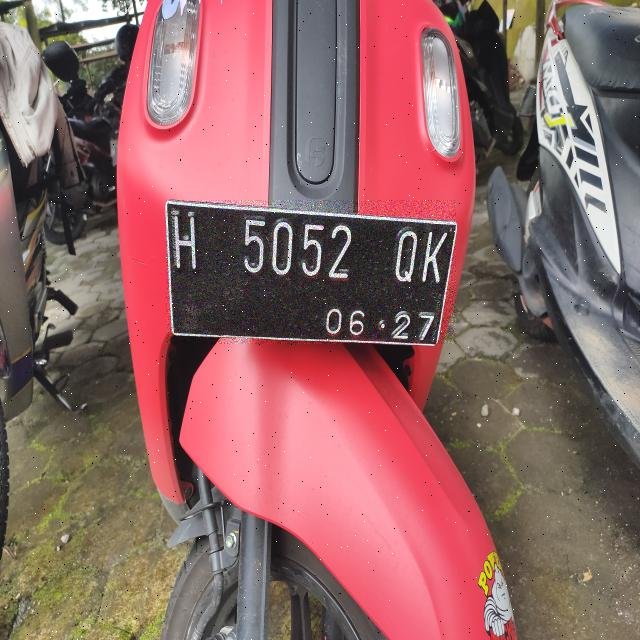plate: (167, 201, 455, 343)
